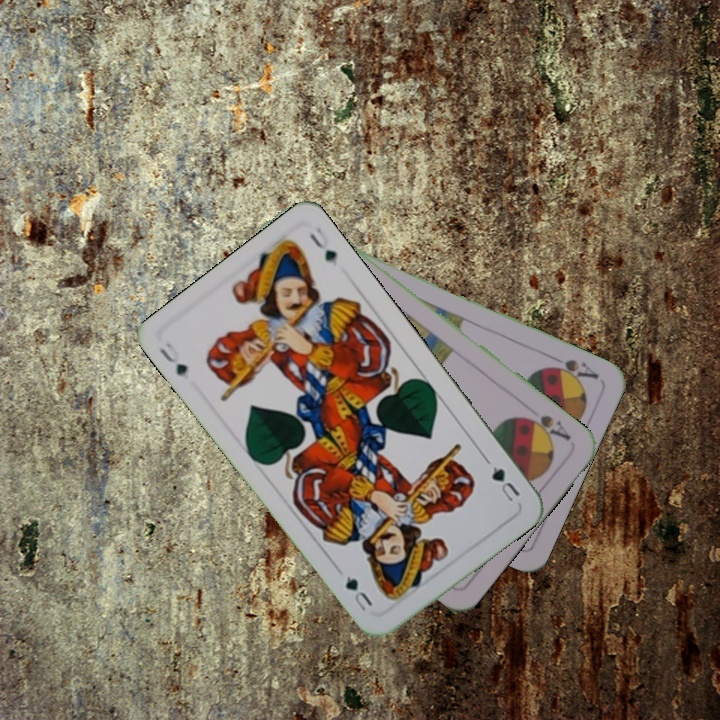GU: (481, 454, 523, 505), (155, 338, 191, 379)
SA: (542, 351, 602, 386), (519, 410, 574, 444)
